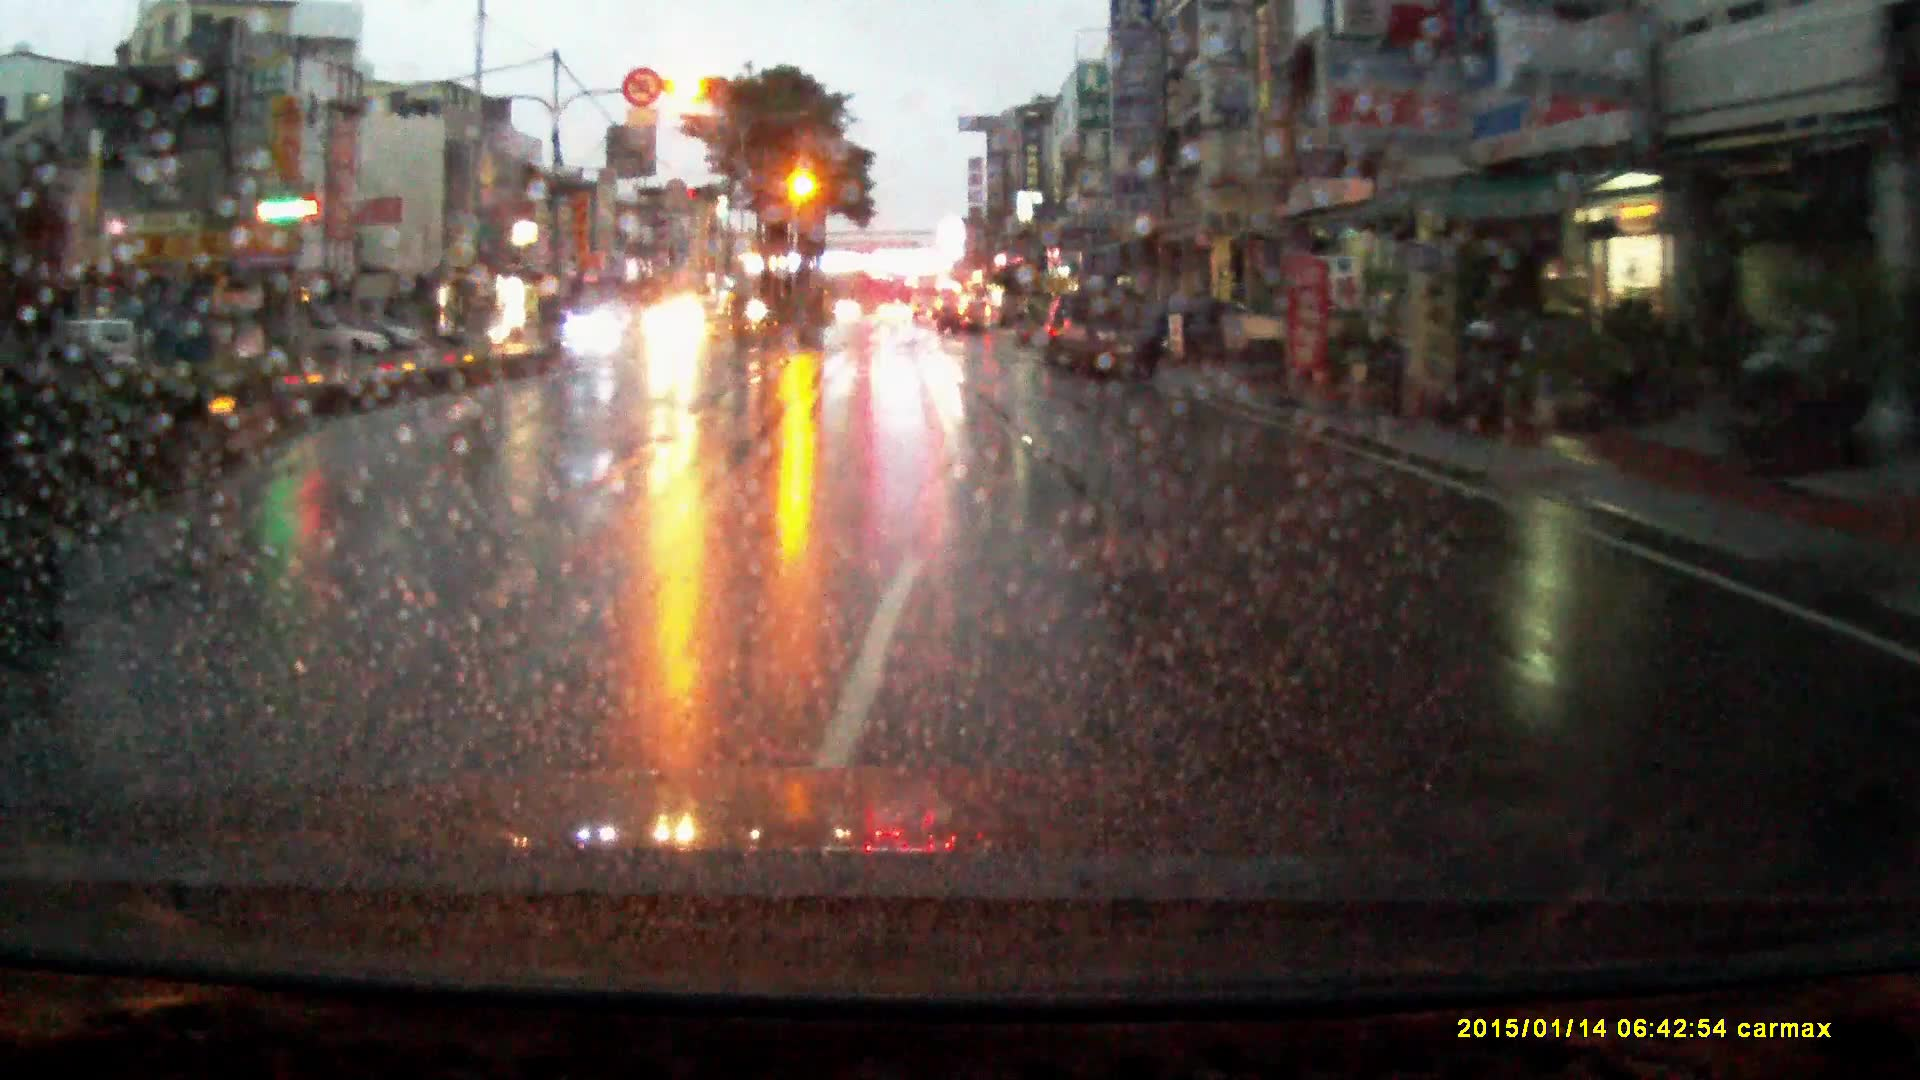vehicle: (1062, 280, 1168, 382), (642, 297, 713, 349), (291, 316, 382, 357), (1218, 311, 1298, 353), (568, 305, 629, 352), (1040, 290, 1073, 367), (938, 294, 996, 336), (454, 313, 512, 349), (367, 322, 425, 353), (911, 273, 944, 316), (878, 302, 913, 323)
